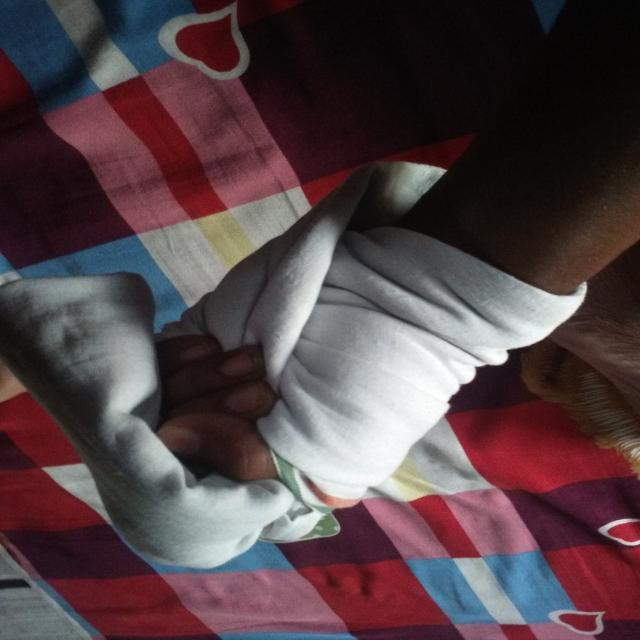gloved_hand: (3, 147, 599, 570)
